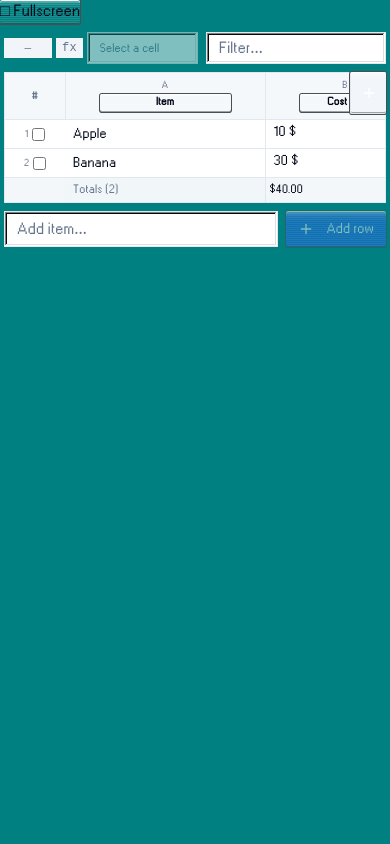
Scenario: spreadsheet in-app fullscreen › exits when Close is clicked and returns to the in-pane grid
Click the button with aria-label "Fullscreen spreadsheet".
click(40, 12)  # box [0,0,80,24]
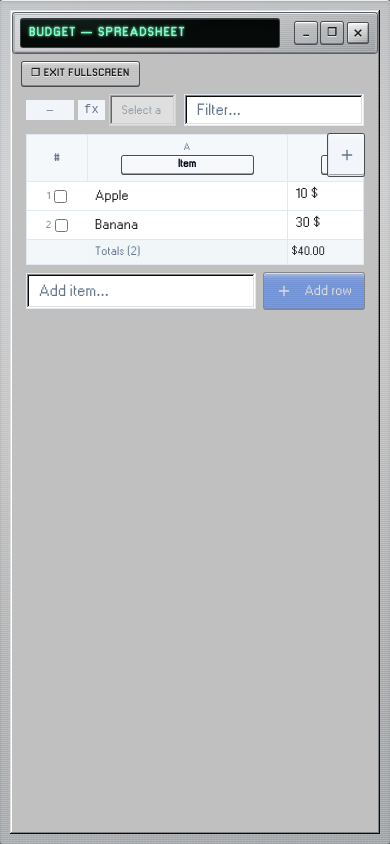
Check: the dialog "Budget — Spreadsheet" is shown
Click the button named "Close".
click(358, 33)  # box [347,22,369,44]
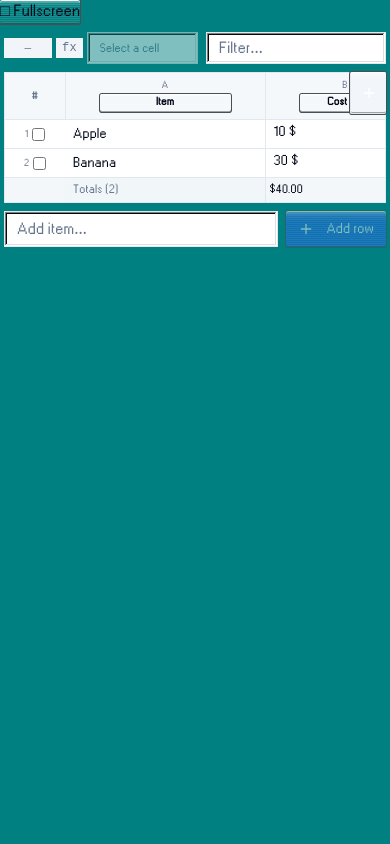
Check: the number of fields named "Formula bar" is 1, box [87,32,198,64]
Check: the text "Budget — Spreadsheet" is gone
Check: the button with aria-label "Fullscreen spreadsheet" is shown, box [0,0,80,24]
